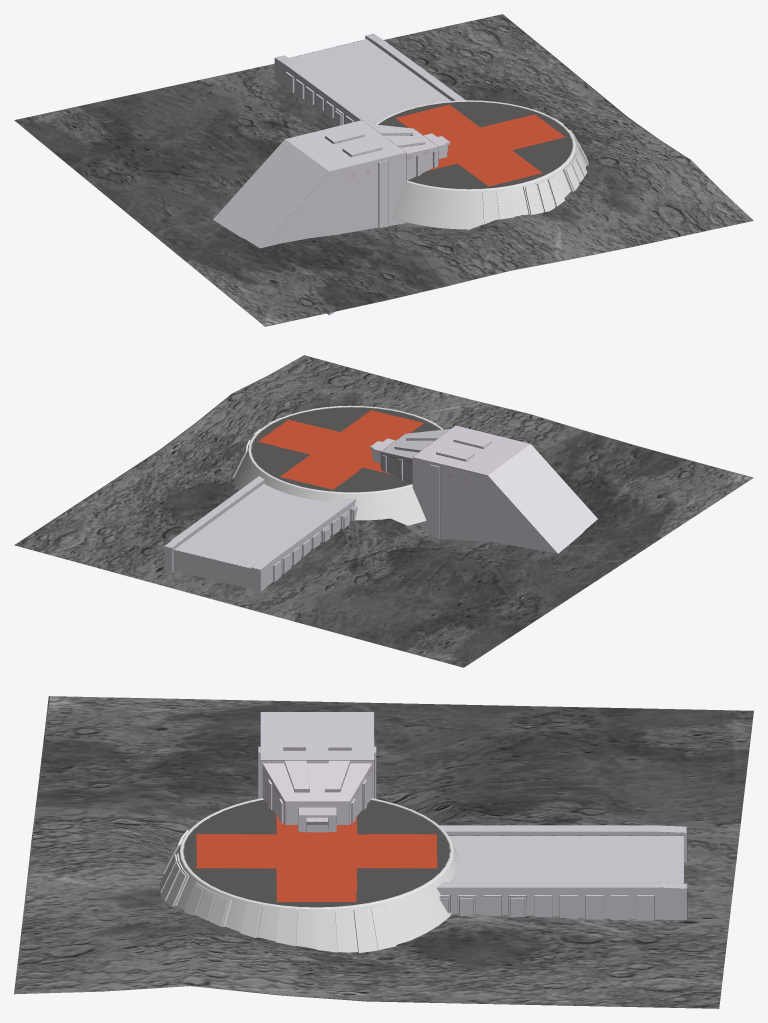
The picture shows the model from 3 angles, top to bottom: view 1: azimuth 30°, elevation 25°; view 2: azimuth 150°, elevation 25°; view 3: azimuth 270°, elevation 25°; orthographic projection. The views are drawn at different scales.
Visible parts, largest first — view 1: Departure Lounge; view 2: Departure Lounge; view 3: Departure Lounge.
Boxes of the visible parts, left/top/right/bottom form: Departure Lounge: left=14, top=14, right=753, bottom=326; Departure Lounge: left=14, top=355, right=753, bottom=667; Departure Lounge: left=14, top=696, right=753, bottom=1008.
Size of the model in its own units: 5.79 by 1.62 by 5.79.
Materials: 4 (4 with a texture image).
